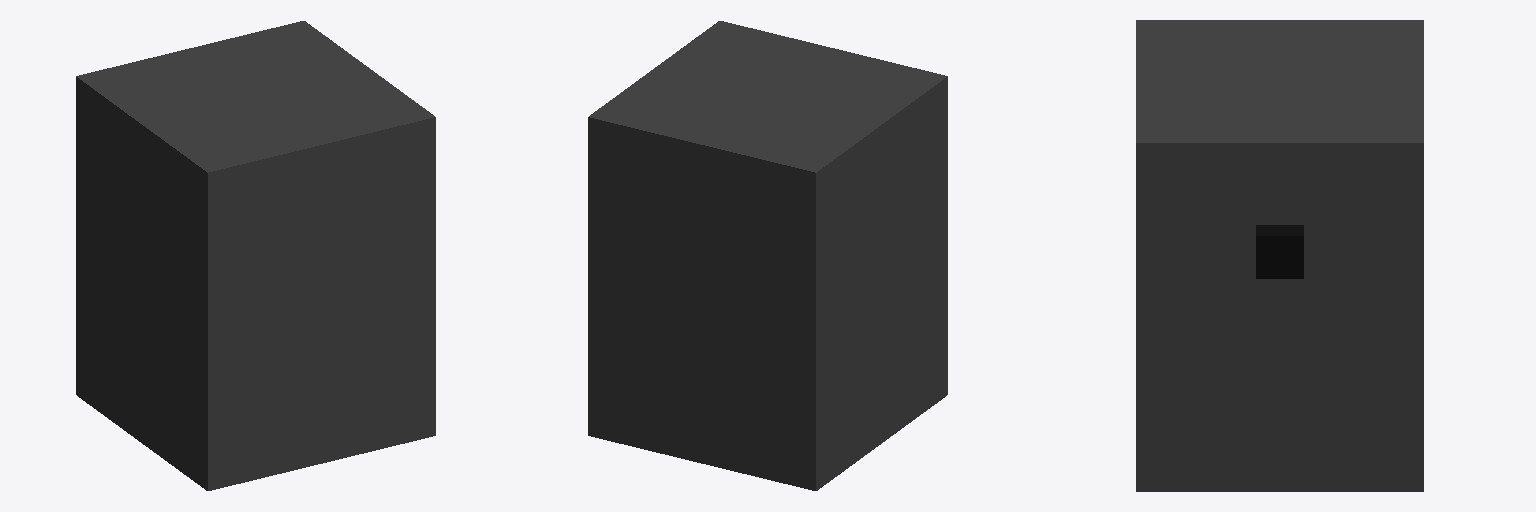
URDF robot description (cafe_robot):
<?xml version="1.0"?>
<robot name="cafe_robot">

  <!--
    Minimal robot: a box body with a front-mounted camera.
    Spawned at (-2.5, 0, 0) facing +x toward the delivery table.
    Camera publishes sensor_msgs/Image to /cafe/camera/image_raw.
  -->

  <!-- Base body: 0.3 x 0.3 x 0.4 m box -->
  <link name="base_link">
    <visual>
      <origin xyz="0 0 0.2" rpy="0 0 0"/>
      <geometry><box size="0.3 0.3 0.4"/></geometry>
      <material name="dark_grey">
        <color rgba="0.3 0.3 0.3 1"/>
      </material>
    </visual>
    <collision>
      <origin xyz="0 0 0.2" rpy="0 0 0"/>
      <geometry><box size="0.3 0.3 0.4"/></geometry>
    </collision>
    <inertial>
      <origin xyz="0 0 0.2" rpy="0 0 0"/>
      <mass value="5.0"/>
      <!-- Solid box inertia: m*(w^2+h^2)/12 etc. (0.3x0.3x0.4, 5 kg) -->
      <inertia ixx="0.1042" ixy="0" ixz="0"
               iyy="0.1042" iyz="0"
               izz="0.075"/>
    </inertial>
  </link>

  <!-- Camera link: sits at front of body, 0.28 m above base_link origin -->
  <link name="camera_link">
    <visual>
      <geometry><box size="0.05 0.05 0.05"/></geometry>
      <material name="black">
        <color rgba="0.1 0.1 0.1 1"/>
      </material>
    </visual>
    <inertial>
      <mass value="0.05"/>
      <inertia ixx="0.0000208" ixy="0" ixz="0"
               iyy="0.0000208" iyz="0"
               izz="0.0000208"/>
    </inertial>
  </link>

  <joint name="camera_joint" type="fixed">
    <parent link="base_link"/>
    <child link="camera_link"/>
    <!-- Front of body (+x), centred, 0.28 m up -->
    <origin xyz="0.15 0 0.28" rpy="0 0 0"/>
  </joint>

  <!-- Gazebo camera sensor attached to camera_link -->
  <gazebo reference="camera_link">
    <sensor type="camera" name="cafe_camera">
      <always_on>true</always_on>
      <update_rate>5.0</update_rate>
      <camera name="cafe_camera">
        <!-- ~60 degree horizontal FOV -->
        <horizontal_fov>1.047</horizontal_fov>
        <image>
          <width>224</width>
          <height>224</height>
          <format>R8G8B8</format>
        </image>
        <clip>
          <near>0.05</near>
          <far>20.0</far>
        </clip>
      </camera>
      <plugin name="camera_controller" filename="libgazebo_ros_camera.so">
        <ros>
          <namespace>/cafe</namespace>
          <remapping>image_raw:=camera/image_raw</remapping>
          <remapping>camera_info:=camera/camera_info</remapping>
        </ros>
        <camera_name>cafe_camera</camera_name>
        <frame_name>camera_link</frame_name>
      </plugin>
    </sensor>
  </gazebo>

</robot>

--- Render facts (derived) ---
Views: 3 orthographic renders of the robot side by side, from view 1: azimuth 30°, elevation 25°; view 2: azimuth 150°, elevation 25°; view 3: azimuth 270°, elevation 25°.
Model cafe_robot with 2 links and 1 joints (1 fixed), rooted at base_link, posed all joints at 0.
Links seen in each view (by area): view 1: base_link; view 2: base_link; view 3: base_link, camera_link.
Boxes of the visible links, x1,y1,x2,y2 form: base_link: [76, 21, 435, 490]; base_link: [588, 21, 947, 490]; base_link: [1136, 20, 1423, 491]; camera_link: [1256, 225, 1303, 278].
Bounding box of the posed robot: 0.325 × 0.3 × 0.4 m (x, y, z).
Geometry: primitives only (box / cylinder / sphere), no mesh files.
